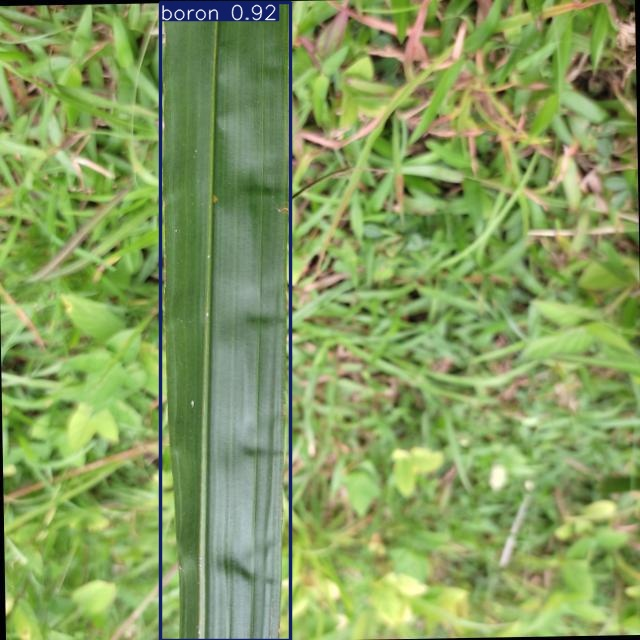nitrogen: (161, 2, 290, 640)
